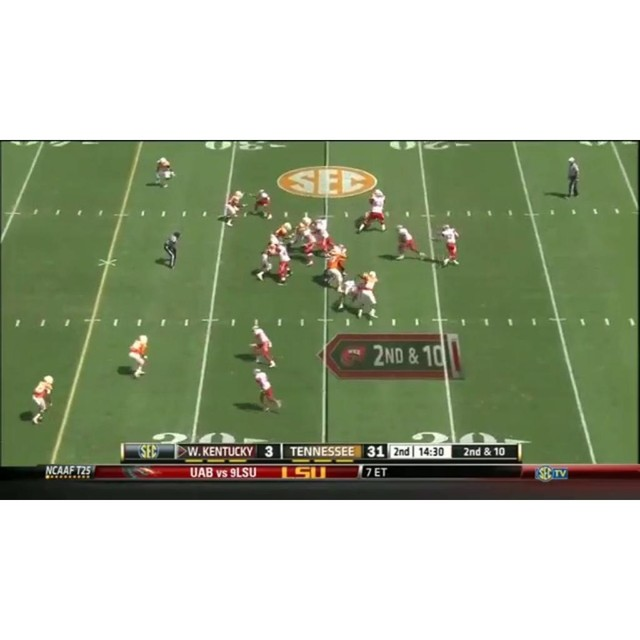american-football-player: (355, 189, 388, 235), (253, 368, 283, 414), (251, 237, 281, 282), (355, 271, 381, 322), (249, 322, 276, 368), (30, 374, 54, 425), (334, 273, 363, 313), (322, 248, 349, 290), (436, 223, 461, 268), (394, 224, 425, 260), (128, 334, 150, 379), (218, 190, 245, 226), (299, 224, 318, 267), (247, 189, 272, 220), (152, 157, 176, 189), (275, 241, 292, 286), (313, 216, 333, 254)
referee: (162, 231, 181, 270), (565, 157, 581, 199)
